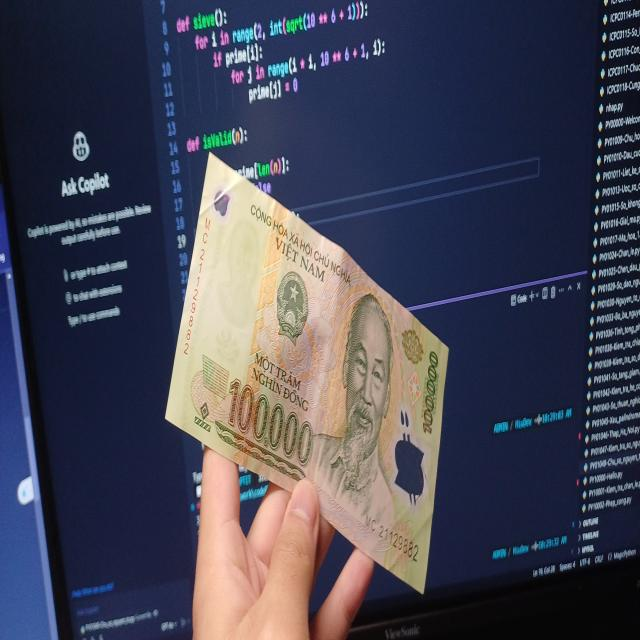100 000 VND: (160, 146, 451, 604)
